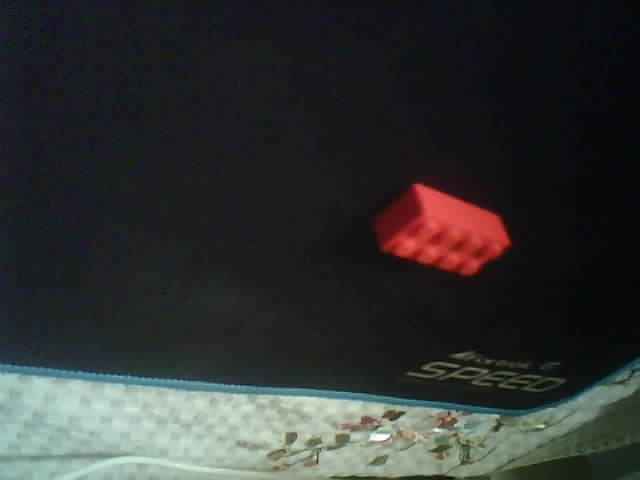lego: (372, 182, 511, 279)
